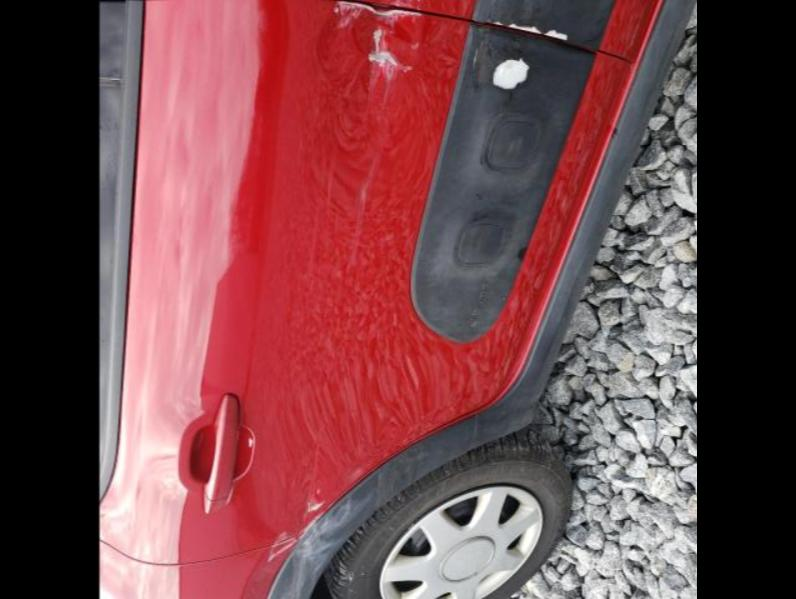Dent: (336, 0, 421, 90)
Paint chip: (491, 56, 530, 88), (508, 22, 542, 34), (544, 27, 568, 40), (478, 16, 504, 24)
Scratch: (269, 496, 372, 599), (350, 148, 380, 266), (268, 510, 326, 562), (334, 0, 424, 30), (368, 26, 411, 80), (270, 530, 294, 552), (326, 152, 334, 203), (308, 498, 324, 510)
